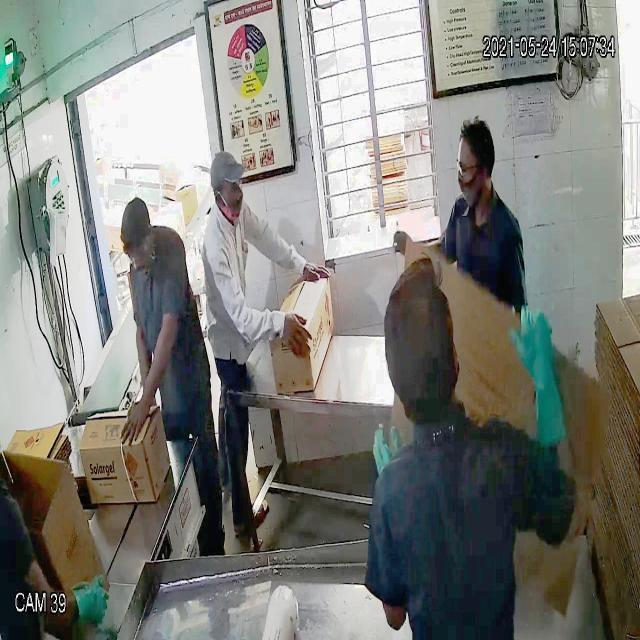glasses: (454, 152, 489, 181)
no-glass: (210, 176, 246, 202)
